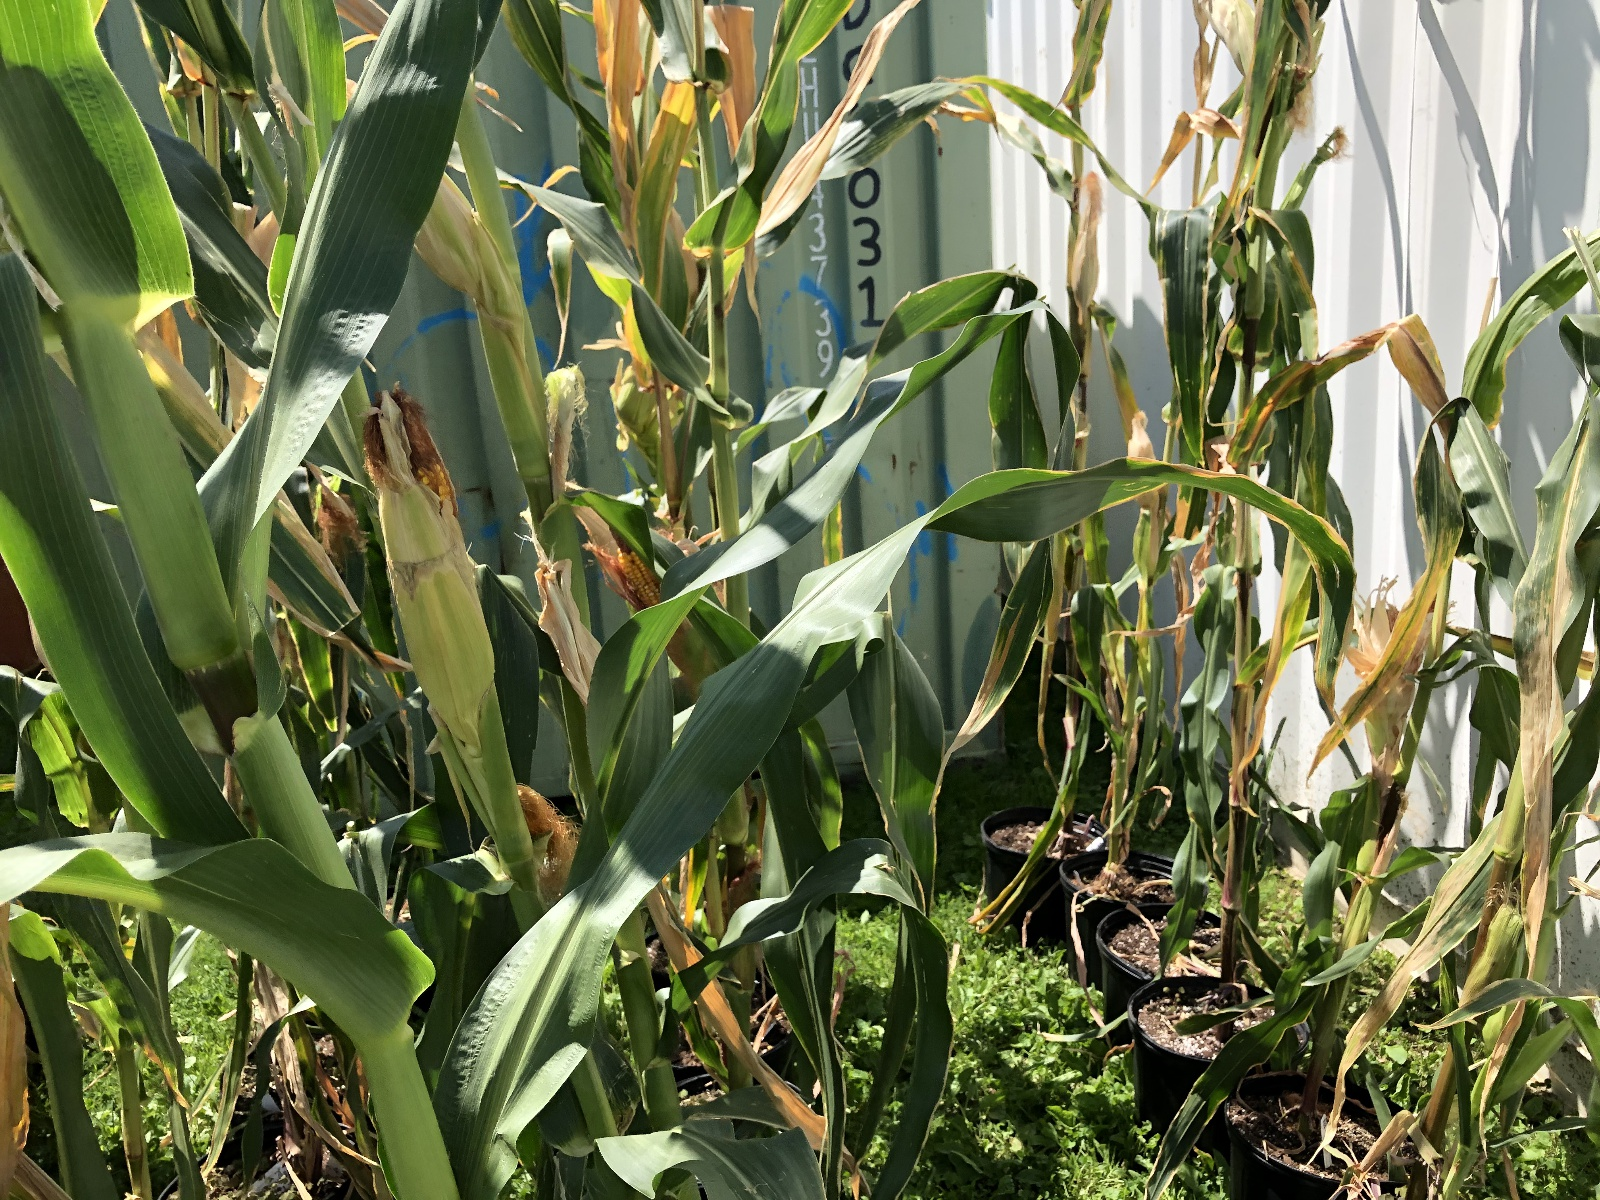ear: (372, 400, 503, 708), (596, 512, 674, 625), (1062, 163, 1104, 308), (1124, 408, 1168, 514)
